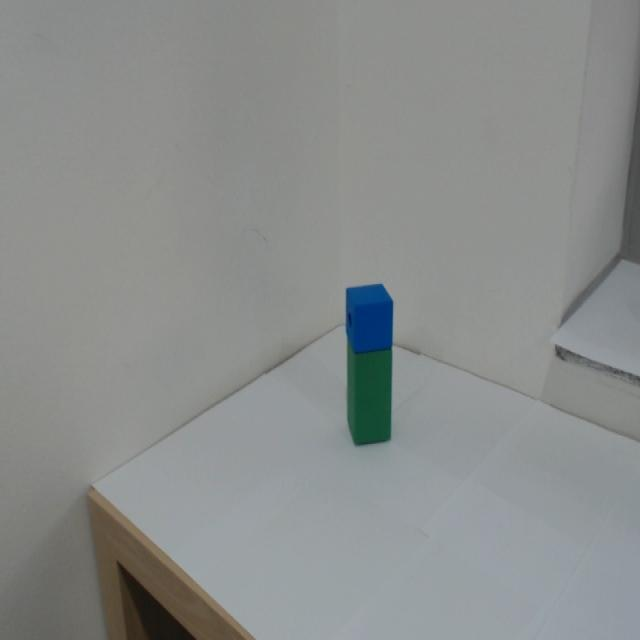cube: (326, 249, 405, 345)
